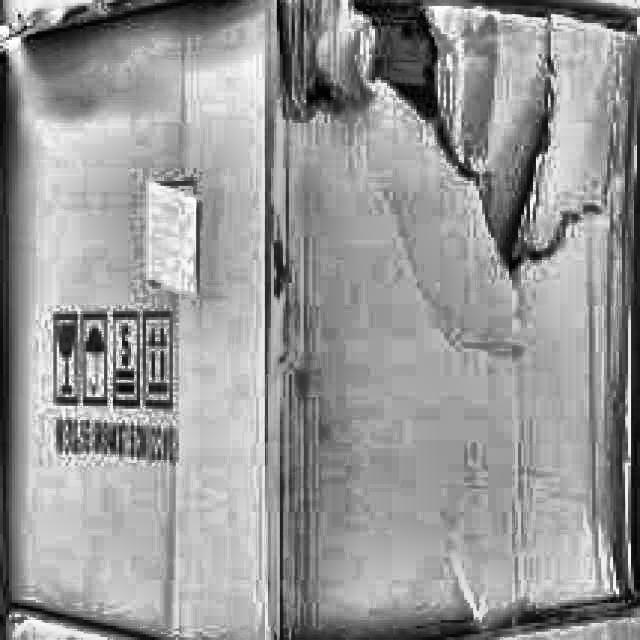box: (4, 0, 639, 639)
hole: (298, 5, 586, 274)
